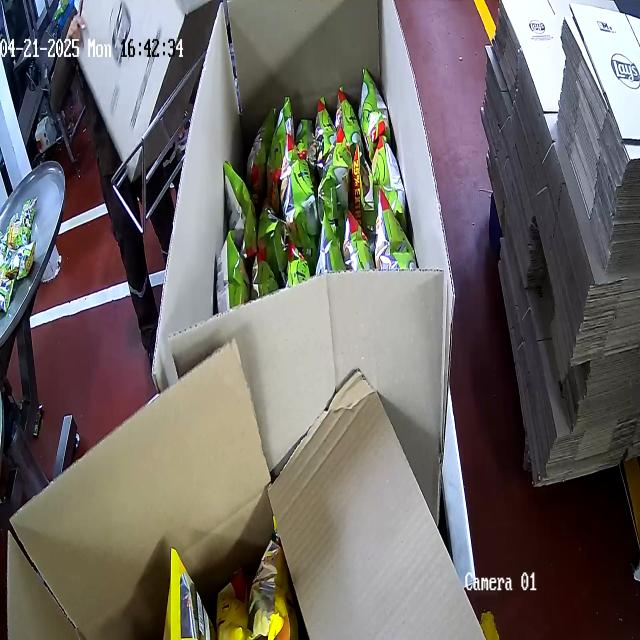SALTED: (163, 532, 298, 640)
YOGURT_HERB: (208, 82, 404, 317)
